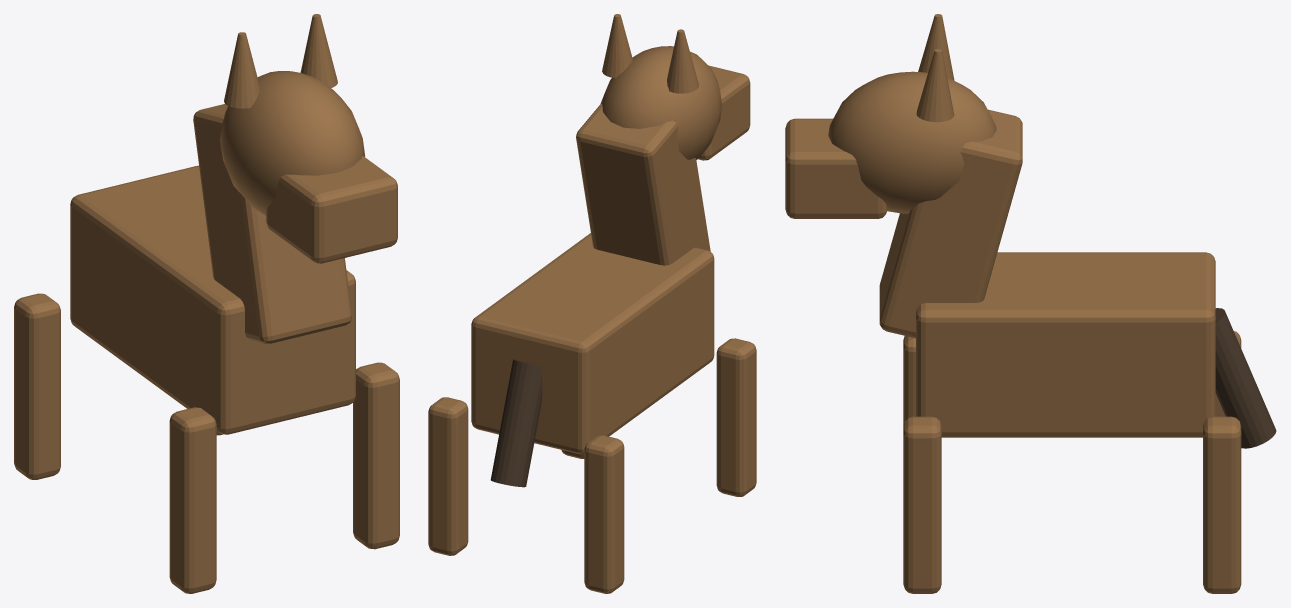
The model's file is best.glb.
3 views of the same model, side by side, from view 1: azimuth 30°, elevation 25°; view 2: azimuth 150°, elevation 25°; view 3: azimuth 270°, elevation 25° (orthographic). The views are drawn at different scales.
Visible parts, largest first — view 1: Ear; view 2: Ear, Tail; view 3: Ear, Tail.
Boxes of the visible parts, x1,y1,x2,y2 form: Ear: (14,14,399,593); Ear: (428,14,756,593); Tail: (490,359,542,487); Ear: (785,14,1241,593); Tail: (1215,308,1276,448).
Size of the model in its own units: 0.475 by 1.11 by 0.9628.
